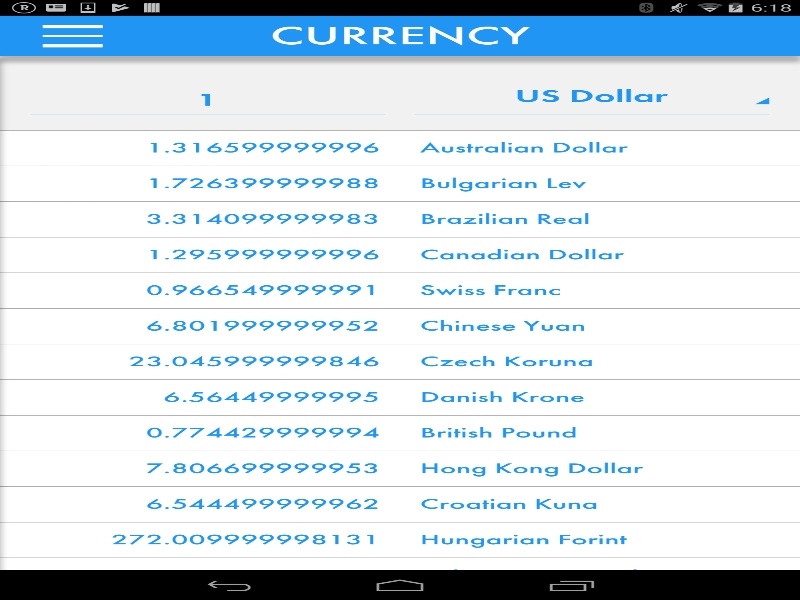Button: (400, 85, 800, 115), (42, 22, 104, 51)
Input: (30, 85, 386, 115)
